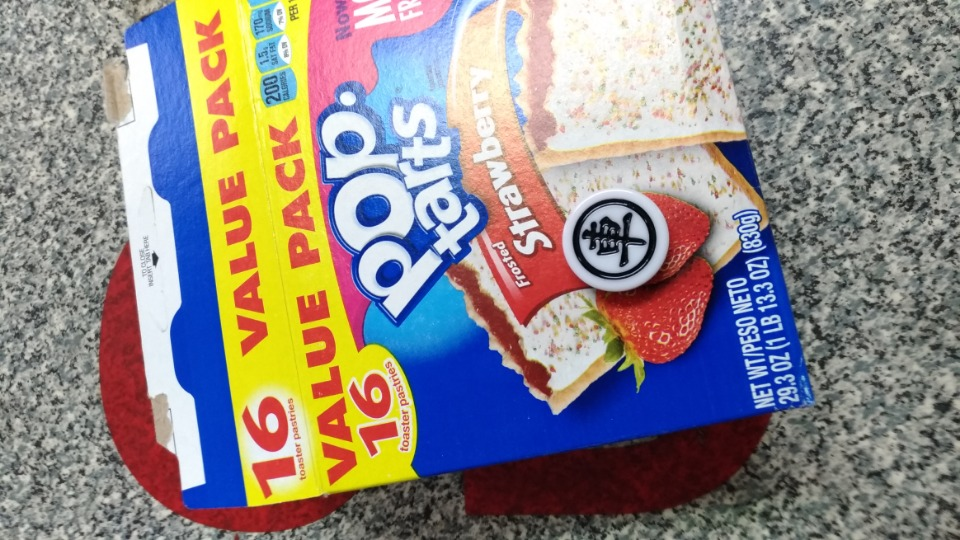b-king: (543, 171, 689, 304)
